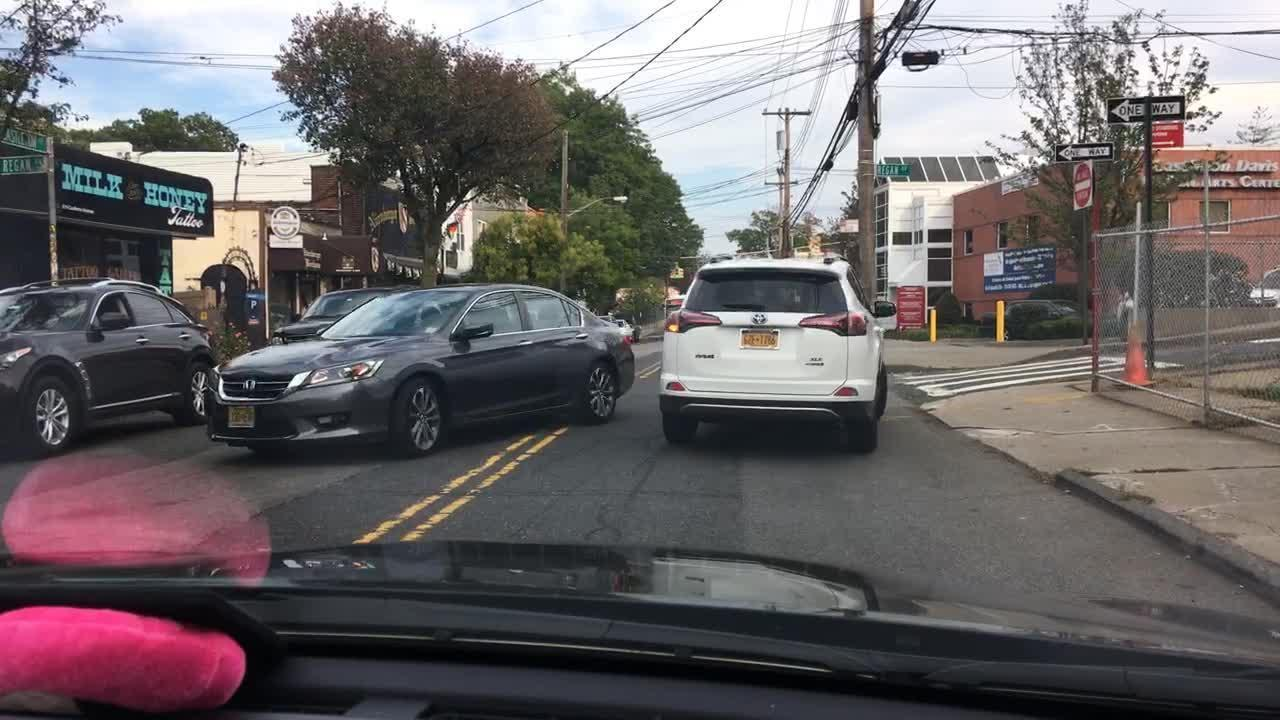Honda: (237, 375, 263, 405)
Toyota: (739, 303, 780, 333)
